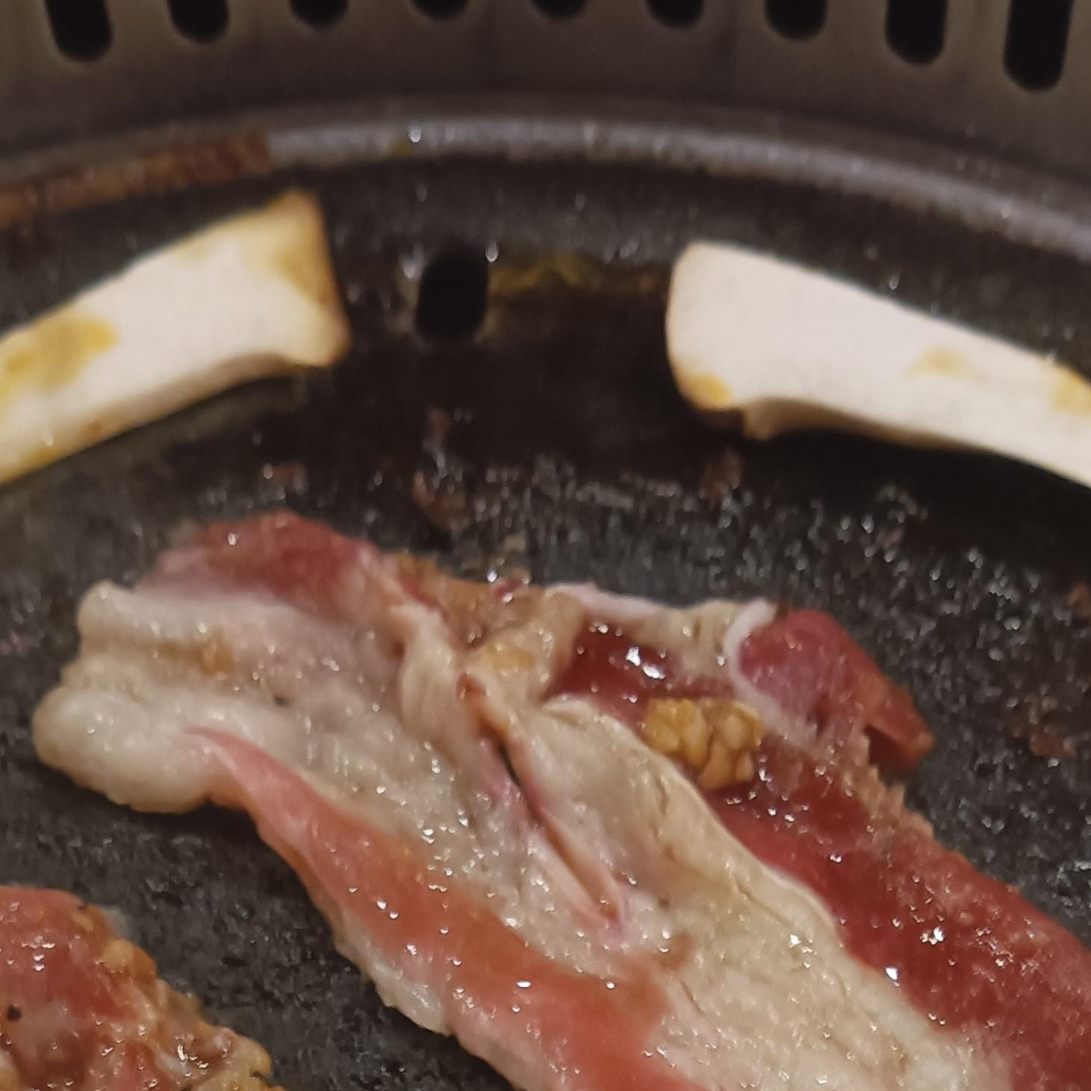Undercooked: (29, 514, 1090, 1090)
